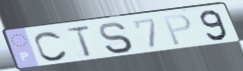7: (130, 17, 159, 50)
9: (199, 9, 229, 42)
C: (33, 30, 70, 62)
P: (162, 13, 194, 47)
S: (97, 21, 136, 55)
T: (64, 24, 94, 59)
